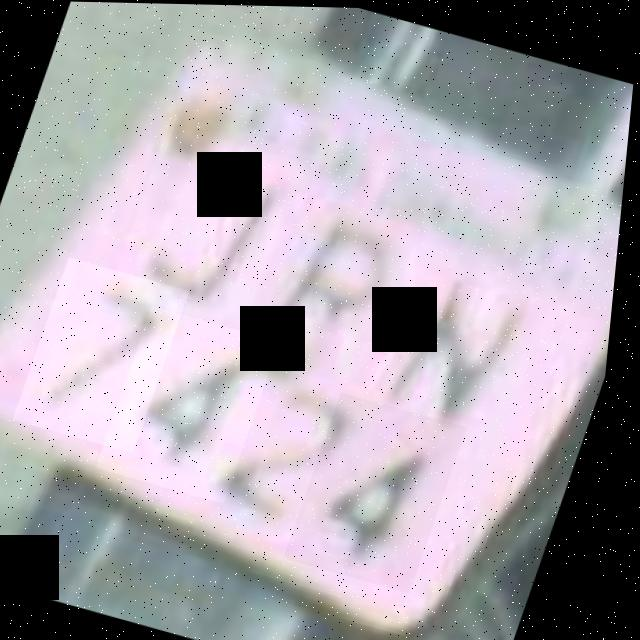2: (179, 339, 405, 555)
4: (291, 390, 477, 592)
7: (18, 256, 197, 453)
A: (102, 304, 289, 503)
B: (239, 174, 432, 389)
J: (112, 122, 311, 331)
N: (354, 231, 565, 451)
